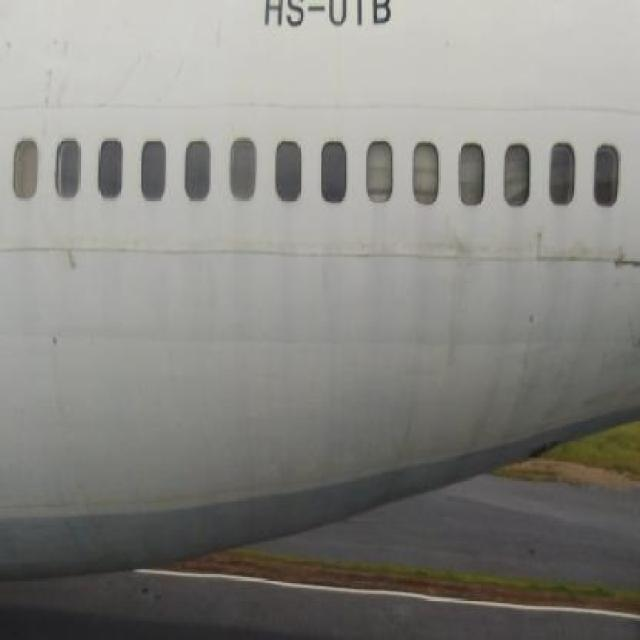Scartch: (543, 237, 640, 292)
